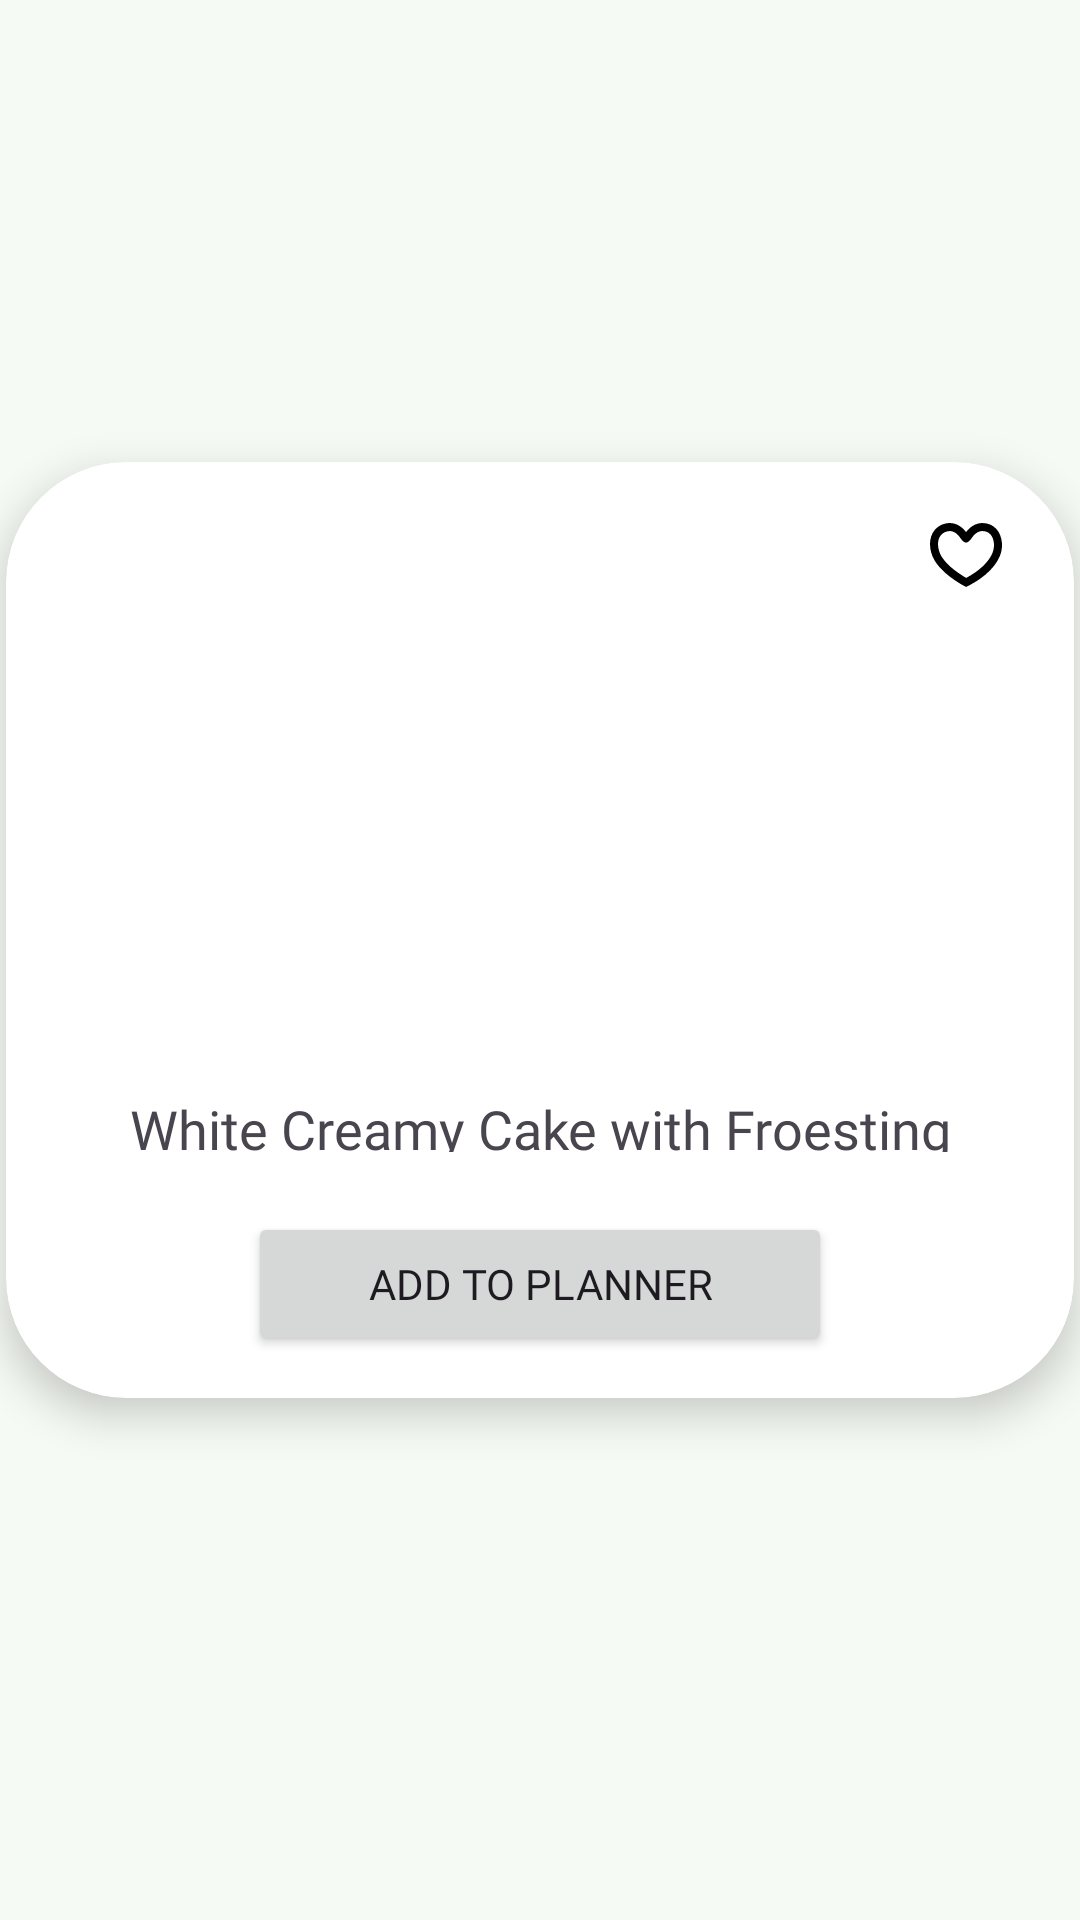

Icon click points for this 1080x1920 phone screenshot, format [x,y]:
outlineheart: [966,555]
